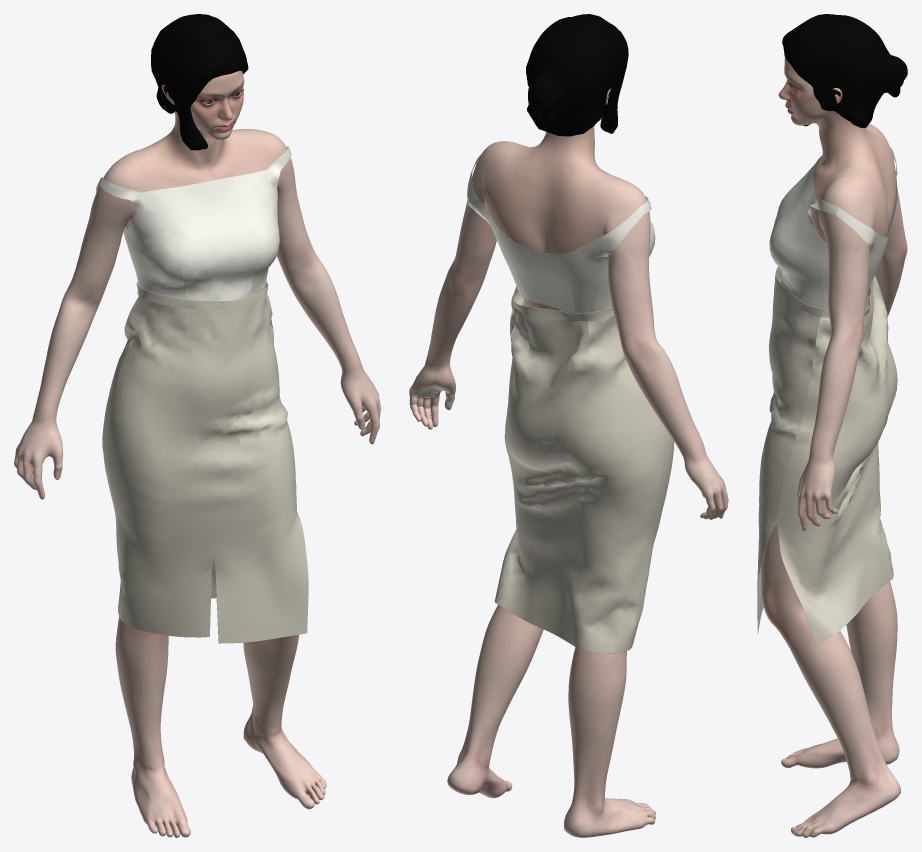
The model's file is Dramatic.obj.
3 views of the same model, side by side, from view 1: azimuth 30°, elevation 25°; view 2: azimuth 150°, elevation 25°; view 3: azimuth 270°, elevation 25° (orthographic). The views are drawn at different scales.
Bounding box in the file's own units: 775 × 1773 × 313.
